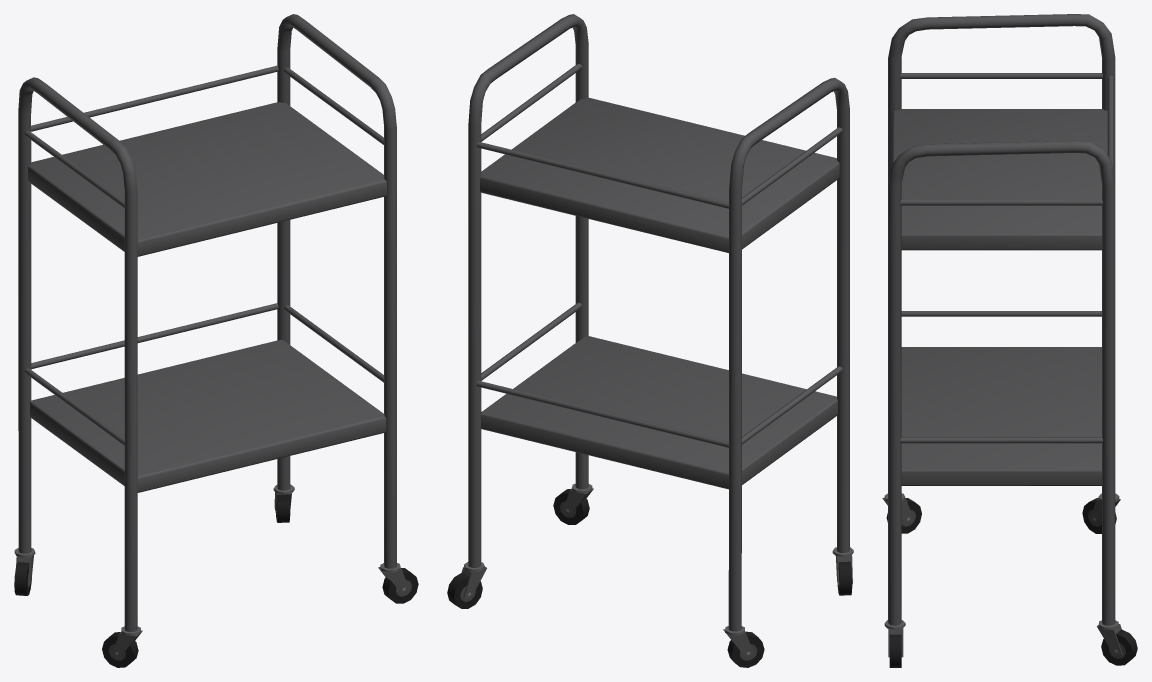
The model's file is trolley3.FBX.
The picture shows the model from 3 angles, left to right: view 1: azimuth 30°, elevation 25°; view 2: azimuth 150°, elevation 25°; view 3: azimuth 270°, elevation 25°; orthographic projection.
Visible parts, largest first — view 1: trolley3; view 2: trolley3; view 3: trolley3.
Part boxes in pixels (x1,y1,x2,y2): trolley3: [14, 14, 418, 667]; trolley3: [447, 14, 853, 667]; trolley3: [882, 14, 1137, 667].
Size of the model in its own units: 22.47 by 16.33 by 36.68.
